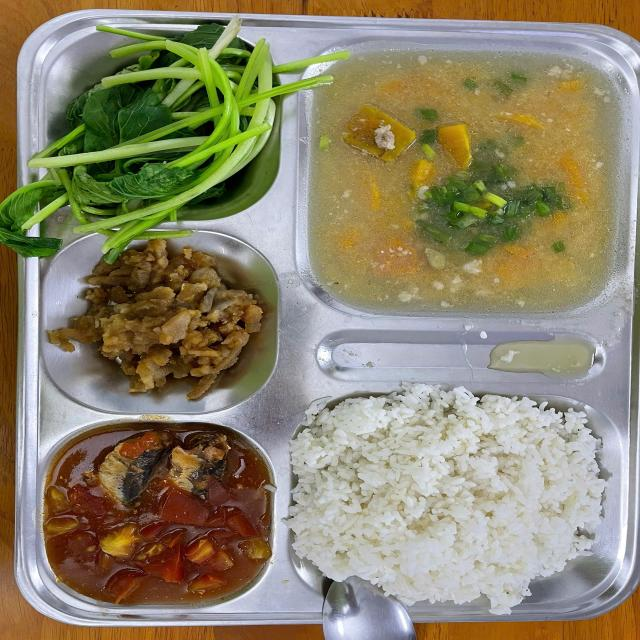cahoi: (54, 432, 270, 604)
caingot: (48, 38, 273, 215)
canhbido: (336, 61, 611, 301)
salad: (295, 389, 616, 601)
teprim: (77, 255, 251, 390)
